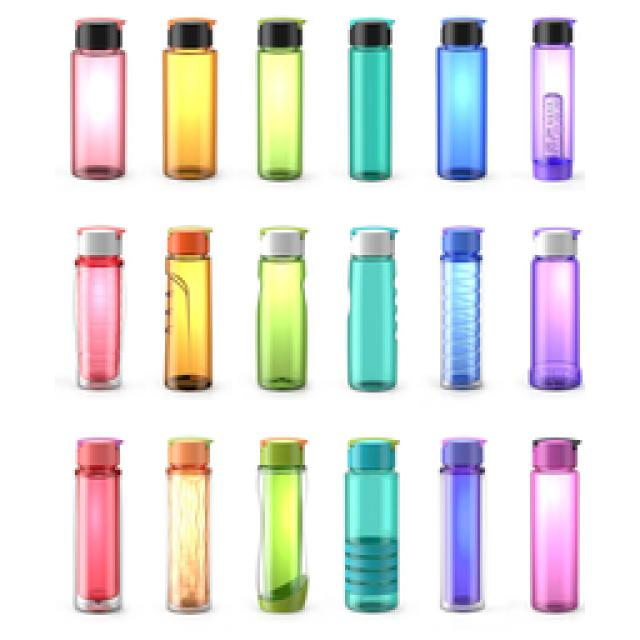plastic: (345, 438, 398, 610), (258, 438, 308, 610), (258, 438, 308, 610), (162, 18, 215, 178), (530, 438, 578, 610), (70, 20, 122, 178), (530, 228, 580, 388), (75, 225, 122, 388), (348, 228, 395, 390), (438, 20, 485, 178), (165, 225, 210, 390), (75, 438, 118, 610), (440, 438, 482, 610), (260, 228, 305, 388), (258, 18, 302, 178), (258, 230, 302, 388), (168, 438, 208, 610), (440, 228, 480, 388), (350, 20, 390, 178), (538, 90, 570, 172), (535, 20, 570, 52)
